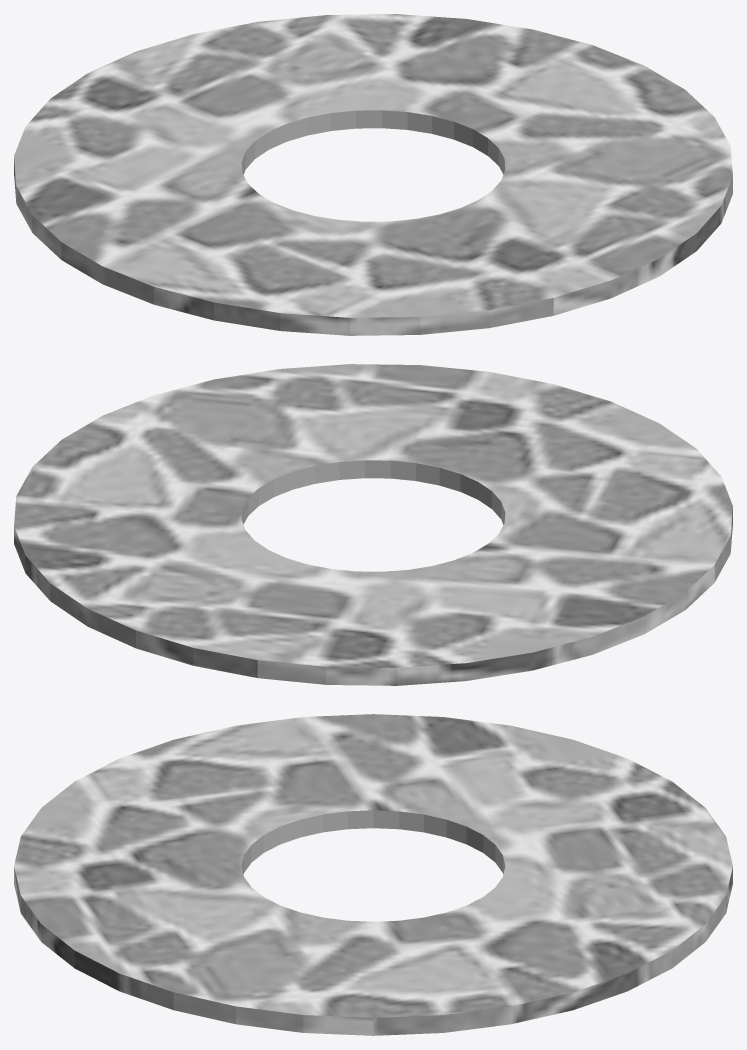
File: Ground.obj
The picture shows the model from 3 angles, top to bottom: view 1: azimuth 30°, elevation 25°; view 2: azimuth 150°, elevation 25°; view 3: azimuth 270°, elevation 25°; orthographic projection.
Parts seen in each view (by area): view 1: 円柱; view 2: 円柱; view 3: 円柱.
Boxes of the visible parts, x1,y1,x2,y2 form: 円柱: [14, 14, 732, 335]; 円柱: [14, 364, 732, 685]; 円柱: [14, 714, 732, 1035].
Bounding box in the file's own units: 21.8 × 0.6 × 21.8.
